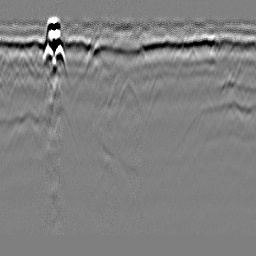cavity: (118, 74, 141, 113)
